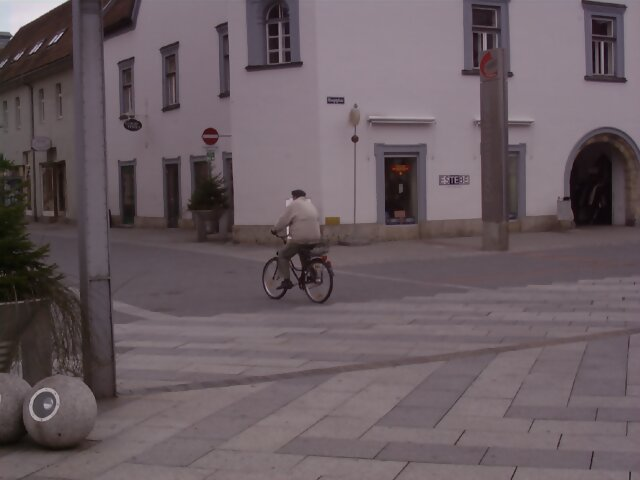person: (277, 188, 326, 291)
